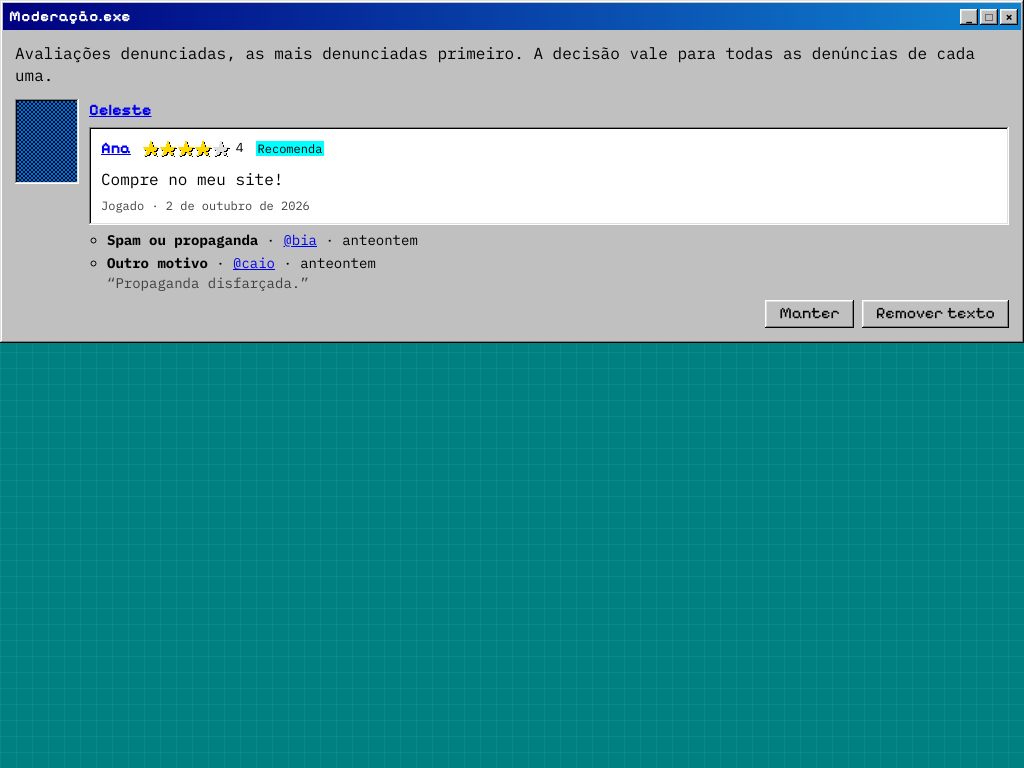
ModerationView › manter resolve todas as denúncias da avaliação
The width and height of the screenshot is (1024, 768).
Click the button "Manter" at (810, 314), box [765, 300, 854, 328]
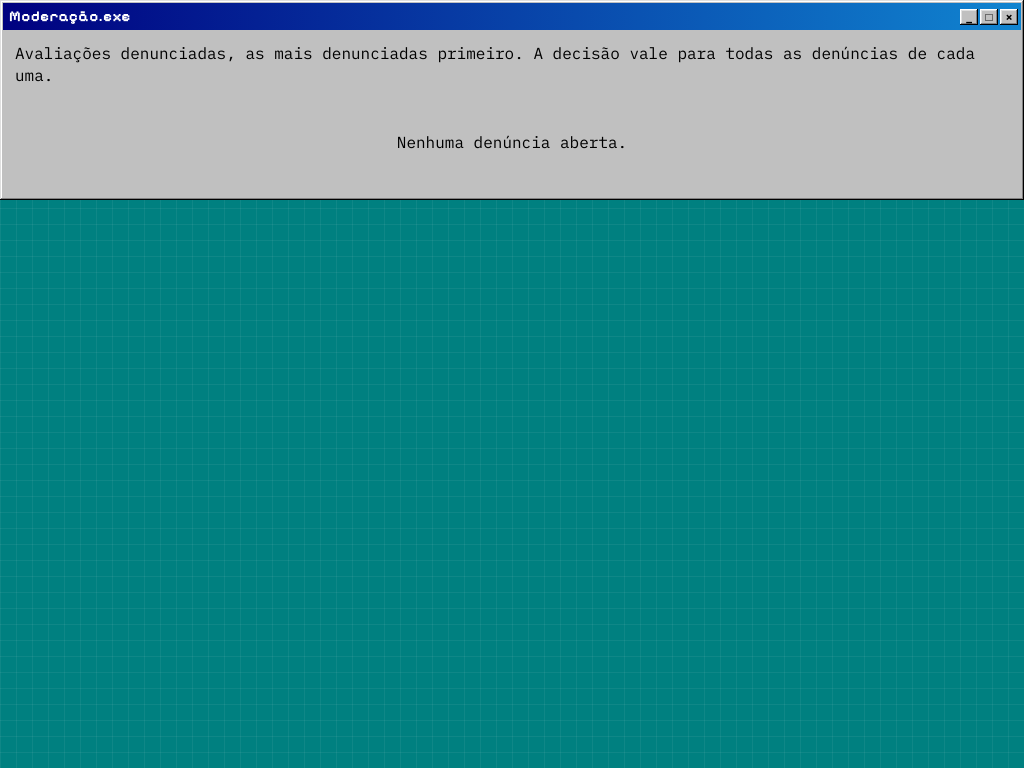
Result: the text "Nenhuma denúncia aberta." is shown at [397, 132, 627, 152]
